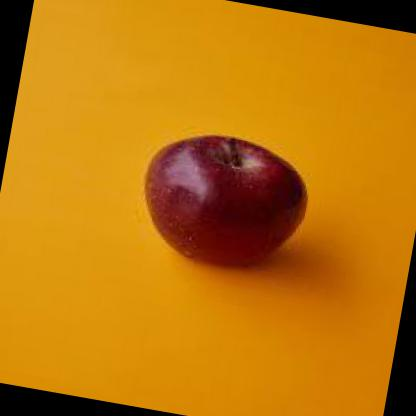apple: (131, 117, 324, 285)
